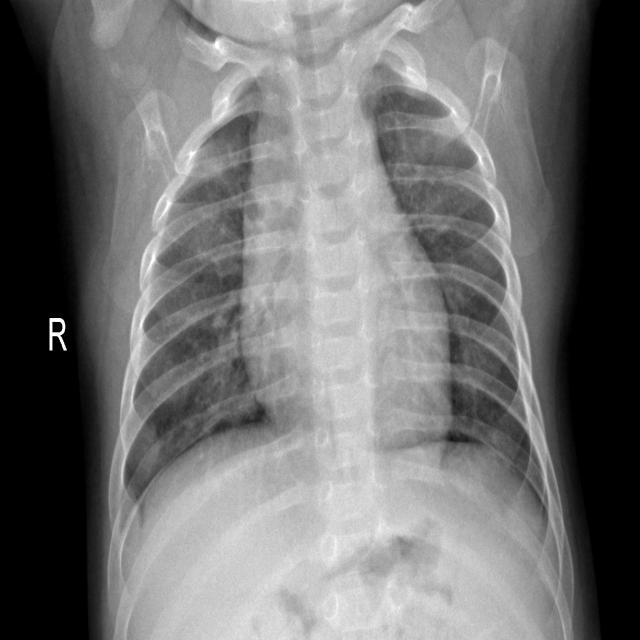normal_lung: (3, 3, 640, 640)
